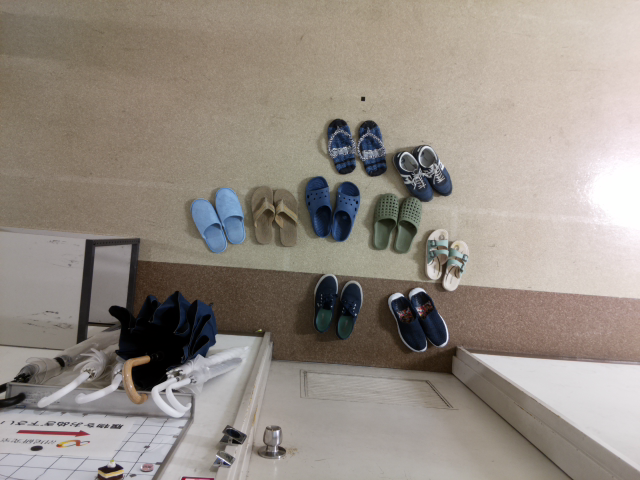Copy of Copy of Copy of Copy of Copy of Copy of Copy of Copy of Copy of Copy of: (381, 281, 433, 358), (404, 278, 454, 354), (328, 175, 367, 249), (300, 170, 338, 245), (418, 221, 456, 289), (438, 231, 476, 299)
Copy of Copy of Copy of Copy of Copy of Copy of Copy of Copy of Copy of shoe: (390, 192, 428, 267)
Copy of Copy of Copy of Copy of Copy of Copy of Copy of Copy of shoe: (365, 185, 403, 260)
Copy of Copy of Copy of Copy of Copy of Copy of Copy of shoe: (350, 104, 397, 184)
Copy of Copy of Copy of Copy of Copy of Copy of shoe: (317, 105, 364, 185)
Copy of Copy of Copy of Copy of Copy of shoe: (266, 178, 302, 254)
Copy of Copy of Copy of Copy of Copy of umbrella: (69, 337, 153, 407)
Copy of Copy of Copy of Copy of shoe: (243, 180, 279, 256)
Copy of Copy of Copy of Copy of umbrella: (28, 301, 147, 408)
Copy of Copy of Copy of shoe: (306, 266, 342, 341)
Copy of Copy of Copy of umbrella: (1, 310, 134, 407)
Copy of Copy of shoe: (329, 274, 365, 349)
Copy of Copy of umbrella: (114, 291, 216, 408)
Copy of shoe: (207, 184, 253, 251)
Copy of umbrella: (163, 349, 247, 418)
shoe: (183, 194, 229, 261)
umbrella: (149, 335, 247, 421)
